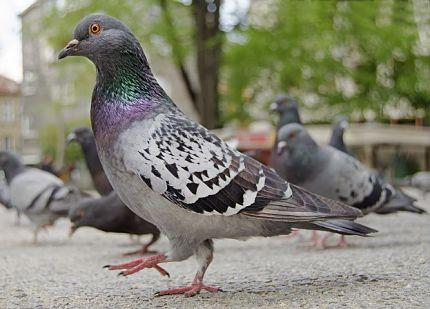Flying Rat: (59, 18, 302, 298), (280, 123, 402, 231), (1, 148, 67, 242)
